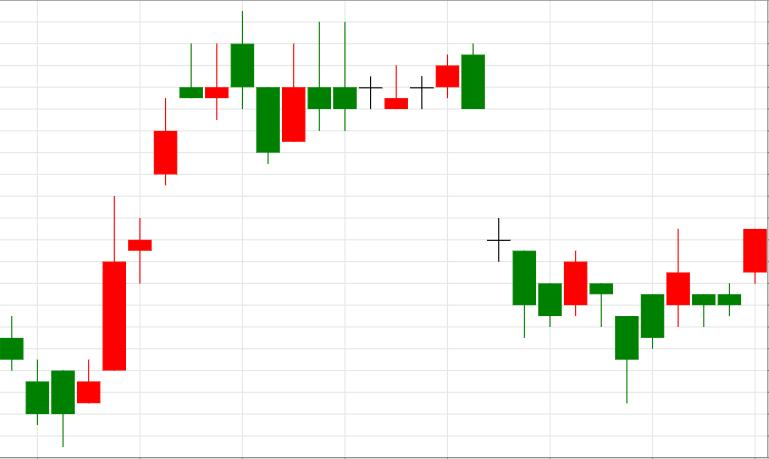hammer_rise: (462, 43, 638, 403)
